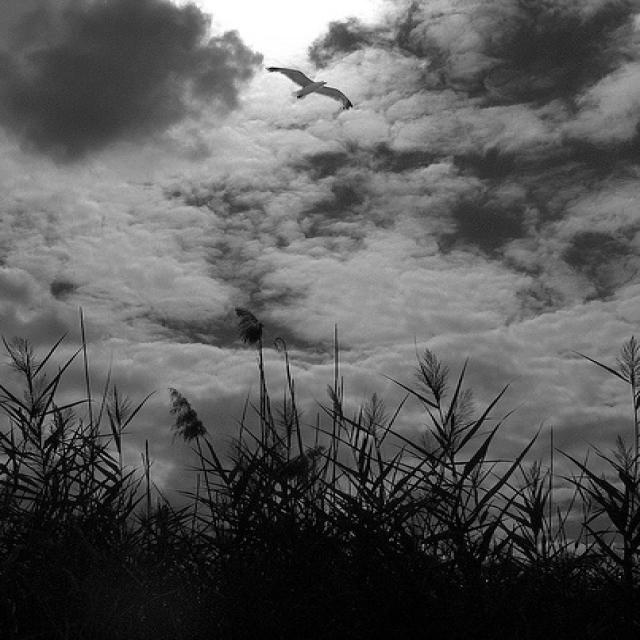bird: (265, 66, 353, 108)
